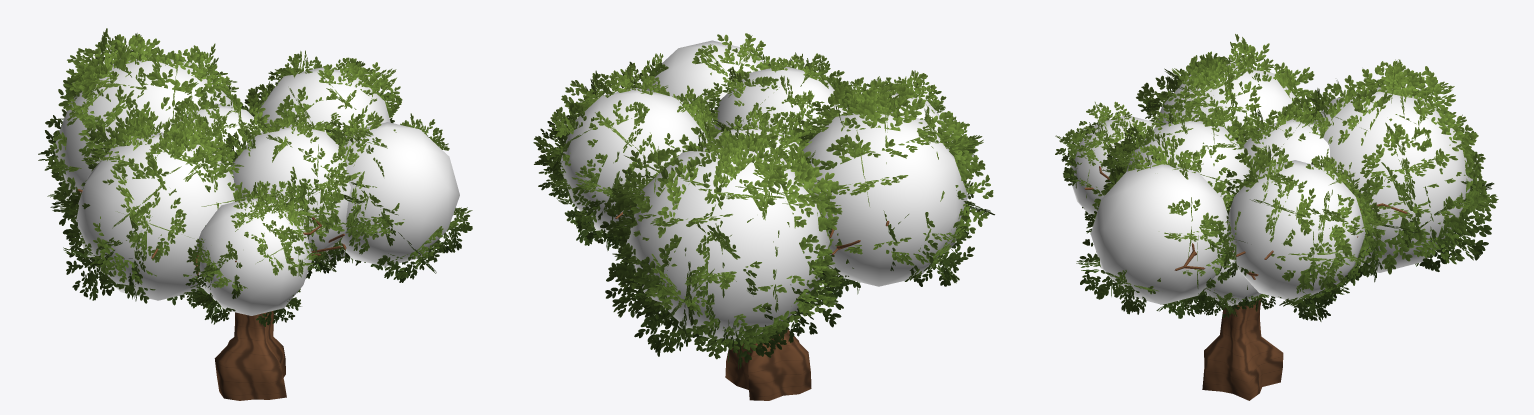
File: acacia.gltf
3 views of the same model, side by side, from view 1: azimuth 30°, elevation 25°; view 2: azimuth 150°, elevation 25°; view 3: azimuth 270°, elevation 25° (orthographic). The views are drawn at different scales.
Parts seen in each view (by area): view 1: acacia_shadow_LOD0, acacia_leaves_LOD0, acacia_trunk_LOD0; view 2: acacia_leaves_LOD0, acacia_shadow_LOD0, acacia_trunk_LOD0; view 3: acacia_shadow_LOD0, acacia_leaves_LOD0, acacia_trunk_LOD0.
Boxes of the visible parts, <box> form: acacia_shadow_LOD0: <box>54,58,459,315</box>; acacia_leaves_LOD0: <box>38,28,472,326</box>; acacia_trunk_LOD0: <box>77,189,376,400</box>; acacia_leaves_LOD0: <box>533,33,994,369</box>; acacia_shadow_LOD0: <box>559,40,968,340</box>; acacia_trunk_LOD0: <box>615,178,972,400</box>; acacia_shadow_LOD0: <box>1070,63,1472,306</box>; acacia_leaves_LOD0: <box>1055,34,1498,321</box>; acacia_trunk_LOD0: <box>1084,166,1407,400</box>.
Size of what is drawn, in the model's own units: 11.83 by 9.18 by 12.63.
3 materials, 2 textured.
